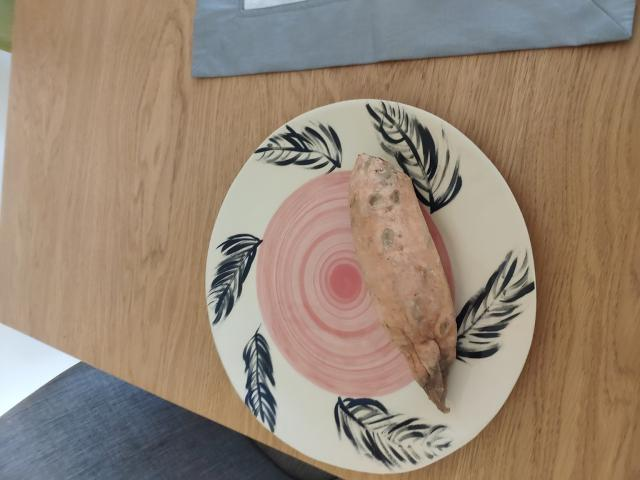sweet_potato: (331, 161, 476, 389)
